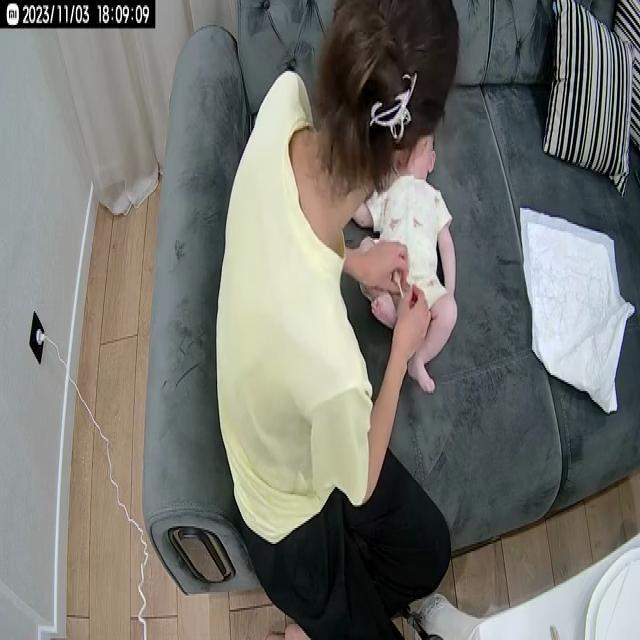baby: (348, 125, 466, 396)
